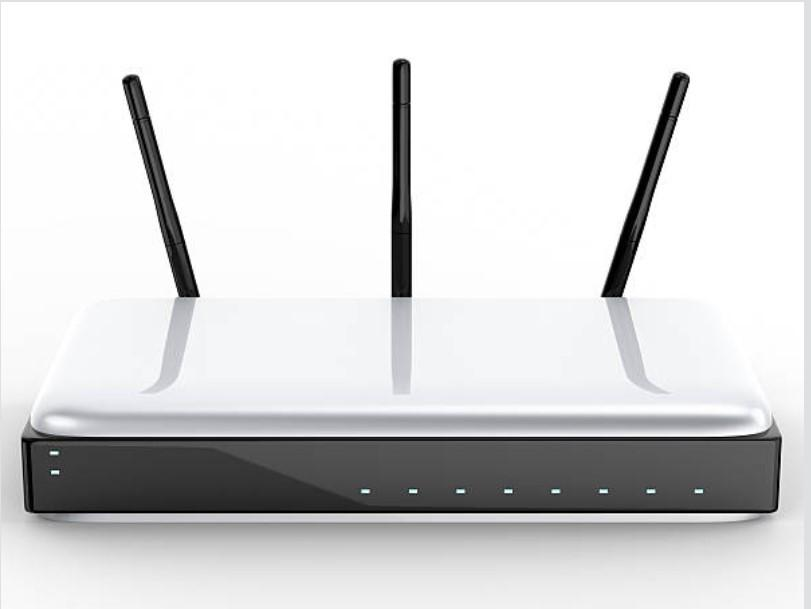Router: (22, 60, 783, 520)
